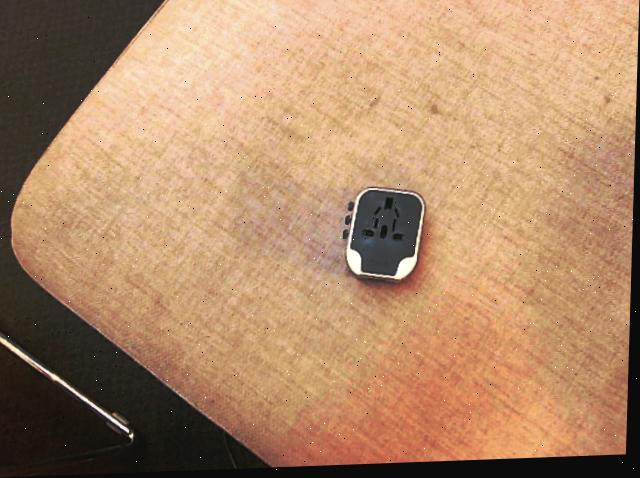adapter: (342, 187, 427, 286)
